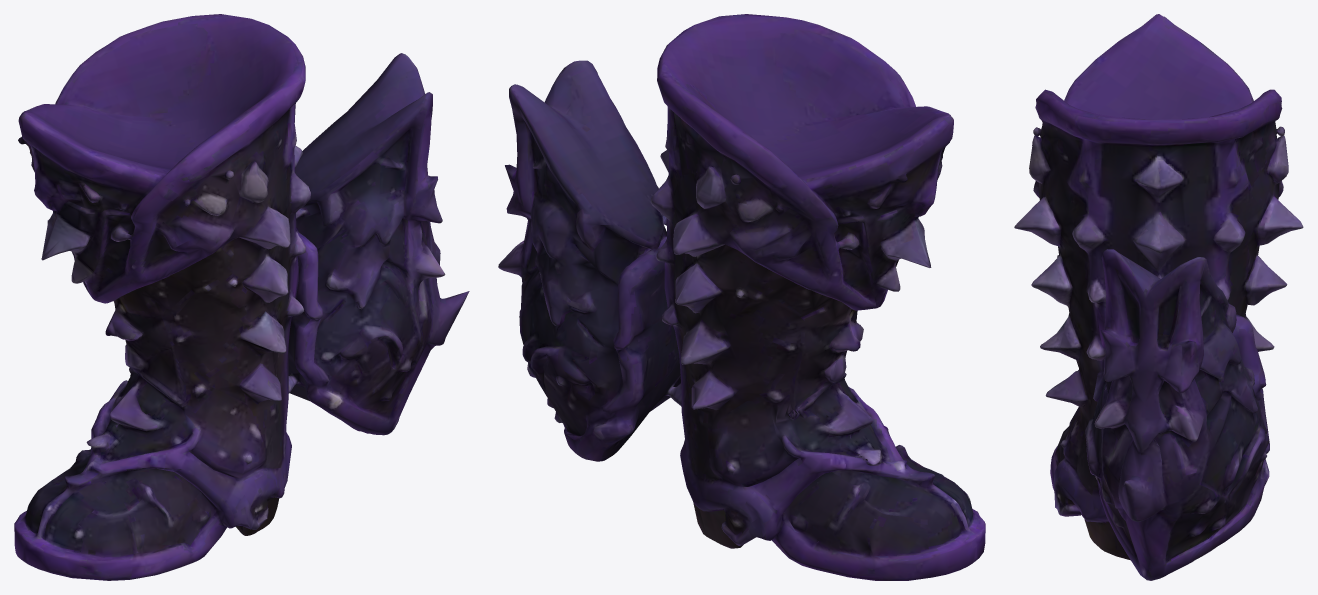
File: duelista-greva.glb
3 views of the same model, side by side, from view 1: azimuth 30°, elevation 25°; view 2: azimuth 150°, elevation 25°; view 3: azimuth 270°, elevation 25° (orthographic). The views are drawn at different scales.
Parts seen in each view (by area): view 1: tripo_node_10589f15-fe7d-4384-b161-727772544098; view 2: tripo_node_10589f15-fe7d-4384-b161-727772544098; view 3: tripo_node_10589f15-fe7d-4384-b161-727772544098.
Part boxes in pixels (x1,y1,x2,y2): tripo_node_10589f15-fe7d-4384-b161-727772544098: [14, 14, 469, 580]; tripo_node_10589f15-fe7d-4384-b161-727772544098: [498, 14, 985, 580]; tripo_node_10589f15-fe7d-4384-b161-727772544098: [1014, 14, 1303, 580].
Bounding box in the file's own units: 0.9776 × 0.9766 × 0.567.
Materials: 1 (1 with a texture image).
